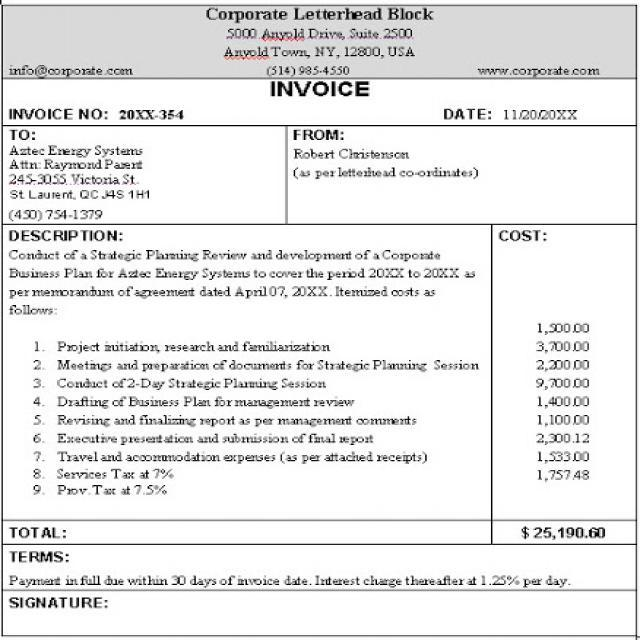customer_address: (6, 172, 162, 206)
customer_name: (5, 141, 149, 173)
invoice_date: (499, 105, 588, 126)
invoice_number: (530, 315, 598, 493), (115, 106, 195, 124)
invoice_total: (516, 523, 612, 545)
item_description: (50, 324, 486, 501)
supplier_address: (221, 26, 418, 64)
supplier_name: (202, 2, 442, 27)
